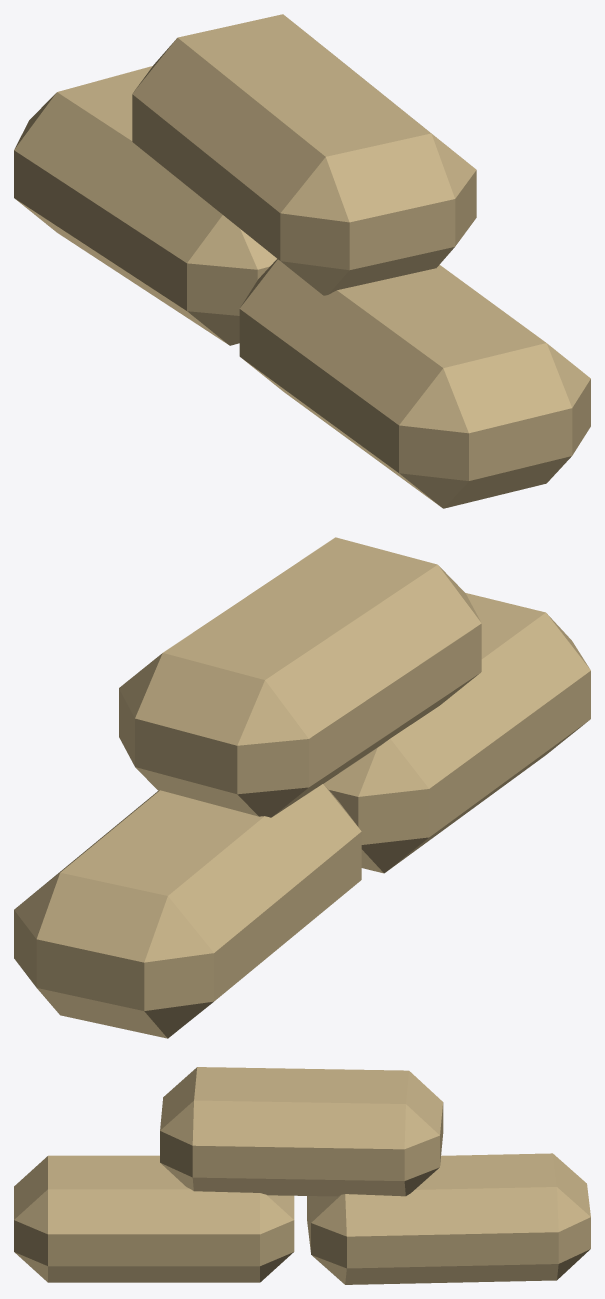
Rendered from GunKit6.obj.
3 renders of one model, top to bottom at view 1: azimuth 30°, elevation 25°; view 2: azimuth 150°, elevation 25°; view 3: azimuth 270°, elevation 25°, orthographic. The views are drawn at different scales.
Parts seen in each view (by area): view 1: GunKit6; view 2: GunKit6; view 3: GunKit6.
Boxes of the visible parts, x1,y1,x2,y2 form: GunKit6: (14,14,590,508); GunKit6: (14,537,590,1038); GunKit6: (14,1067,590,1284).
Bounding box in the file's own units: 0.2141 × 0.27 × 0.7825.
